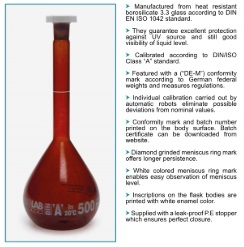glass_bottle: (20, 11, 103, 233)
